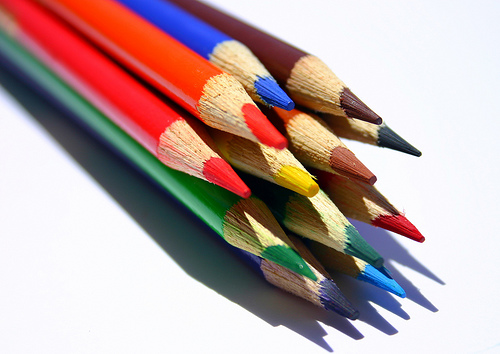pen_tip: (280, 35, 394, 129)
